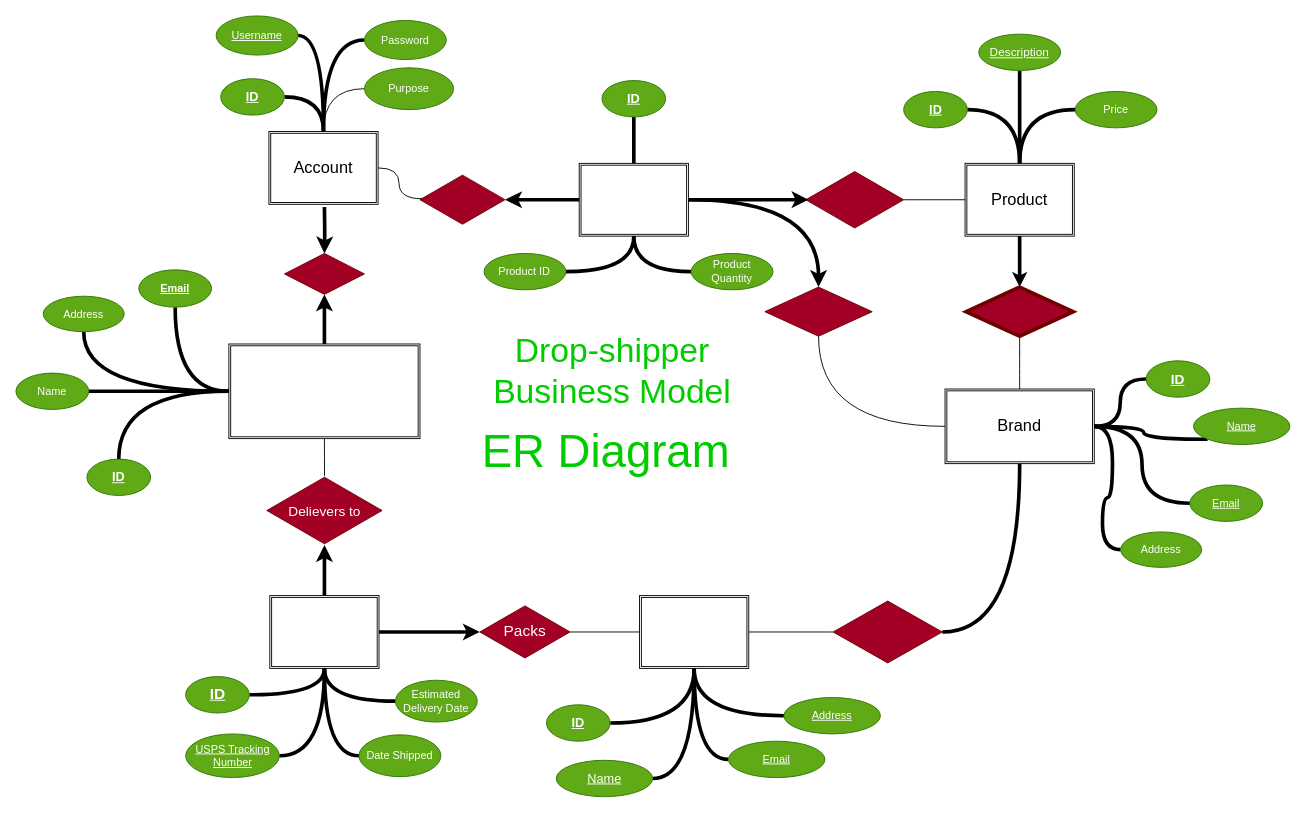
The diagram is 1306 pixels wide and 820 high, and some of its shapes have lost their labels. The shapes that lost their labels are listed below. From the top down, each one's centre as x and y in pixels, then its label:
At [462,199]: "Places".
At [633,199]: "Order".
At [854,199]: "Purchases".
At [323,273]: "Has".
At [818,311]: "Processed by".
At [1019,311]: "Catalogues".
At [324,391]: "Customer".
At [324,631]: "Parcel".
At [694,631]: "Distributor".
At [887,631]: "Contracts".
